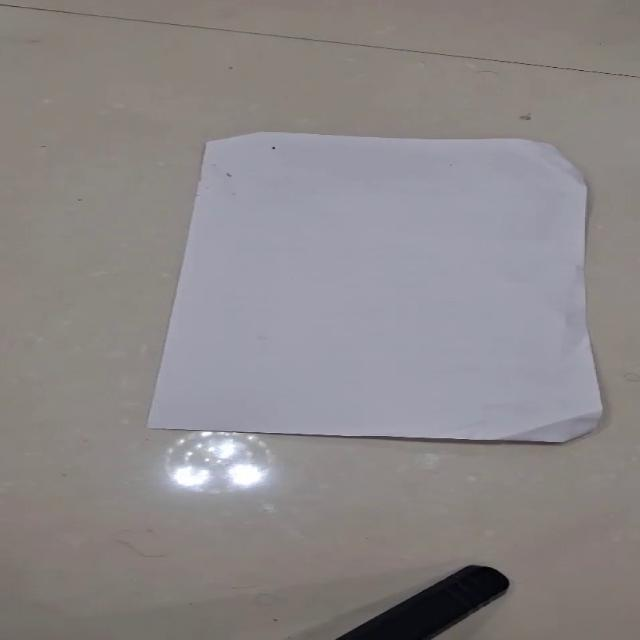paper: (144, 130, 604, 443)
